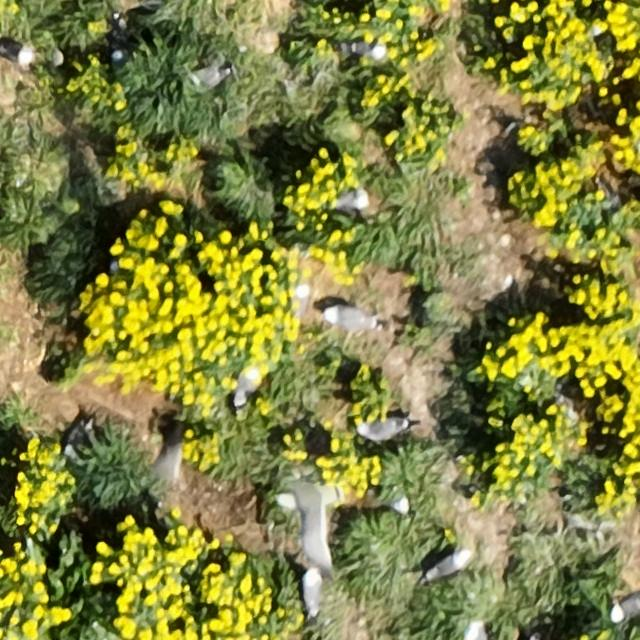F: (283, 484, 344, 584)
umineko: (323, 305, 373, 330), (359, 416, 407, 439), (233, 366, 259, 406), (428, 551, 469, 575), (291, 279, 313, 316), (302, 571, 320, 615), (611, 592, 640, 619), (333, 190, 367, 212), (191, 65, 227, 85), (0, 42, 33, 63), (348, 41, 385, 59)
